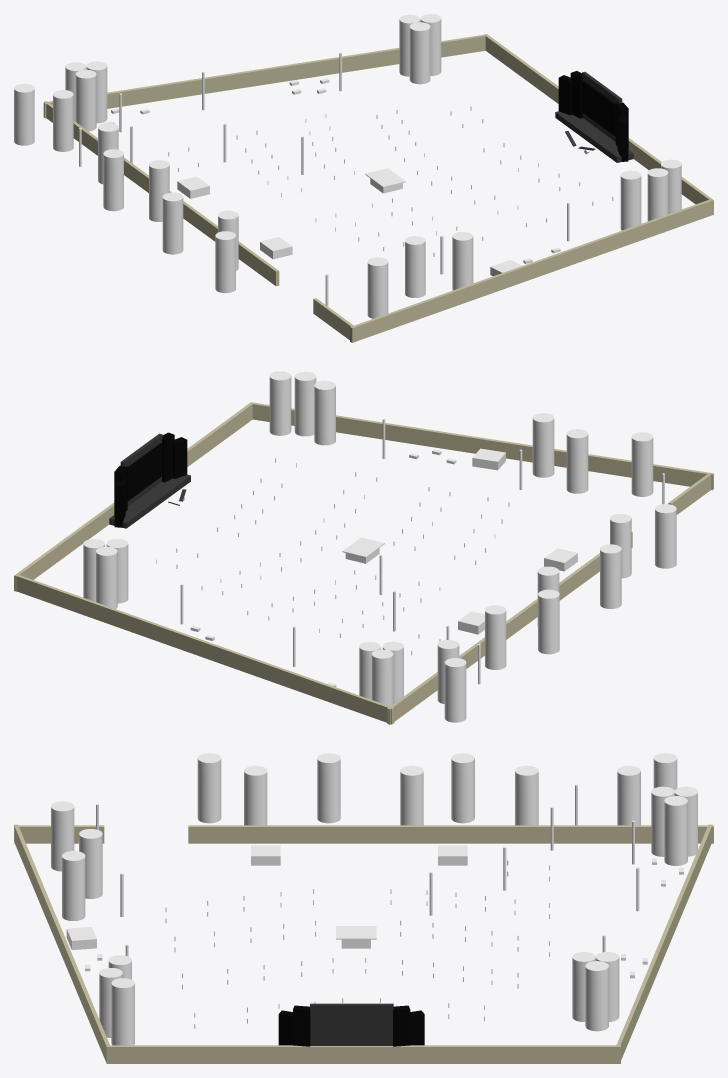
Rendered from Drive-in4.fbx.
3 views of the same model, one above another, from view 1: azimuth 30°, elevation 25°; view 2: azimuth 150°, elevation 25°; view 3: azimuth 270°, elevation 25° (orthographic). The views are drawn at different scales.
Visible parts, largest first — view 1: Merged_Scene_5; view 2: Merged_Scene_5; view 3: Merged_Scene_5.
Boxes of the visible parts, x1,y1,x2,y2 form: Merged_Scene_5: (14,14,713,342); Merged_Scene_5: (14,371,713,724); Merged_Scene_5: (14,753,713,1063).
Bounding box in the file's own units: 14438 × 17115 × 1710.
